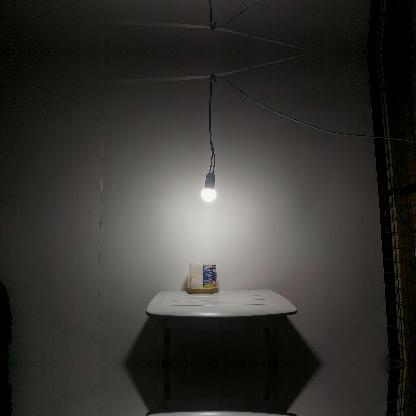Lady-s-Choice: (186, 260, 218, 294)
